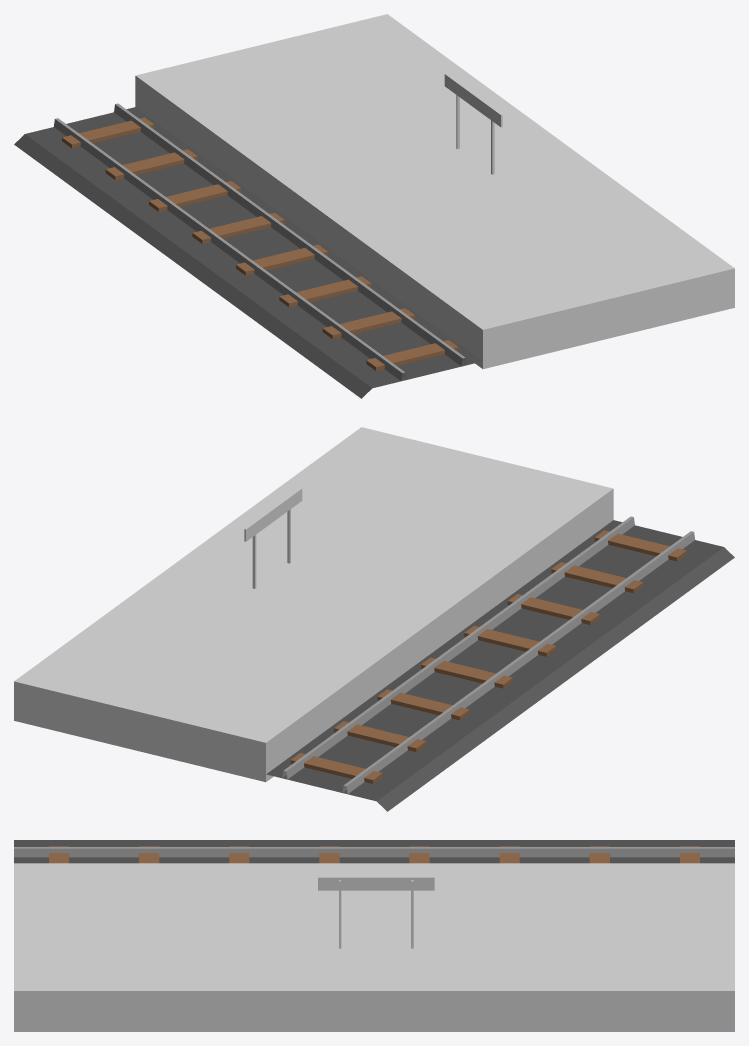
File: 1_platform.fbx
The picture shows the model from 3 angles, top to bottom: view 1: azimuth 30°, elevation 25°; view 2: azimuth 150°, elevation 25°; view 3: azimuth 270°, elevation 25°; orthographic projection. The views are drawn at different scales.
Parts seen in each view (by area): view 1: 1_platform; view 2: 1_platform; view 3: 1_platform.
Part boxes in pixels (x1=…): 1_platform: x1=14, y1=14, x2=734, y2=398; 1_platform: x1=14, y1=427, x2=734, y2=811; 1_platform: x1=14, y1=840, x2=734, y2=1031.
Bounding box in the file's own units: 4.96 × 1.35 × 8.
